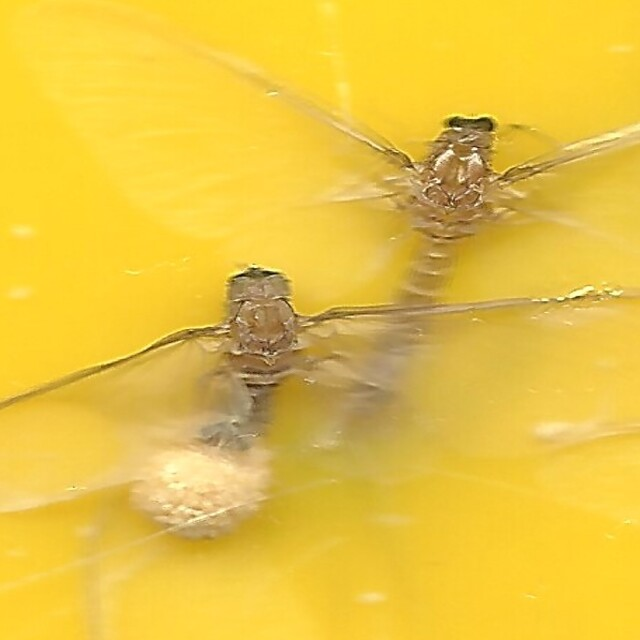Ephemeroptera: (334, 107, 500, 435), (140, 269, 300, 533)
